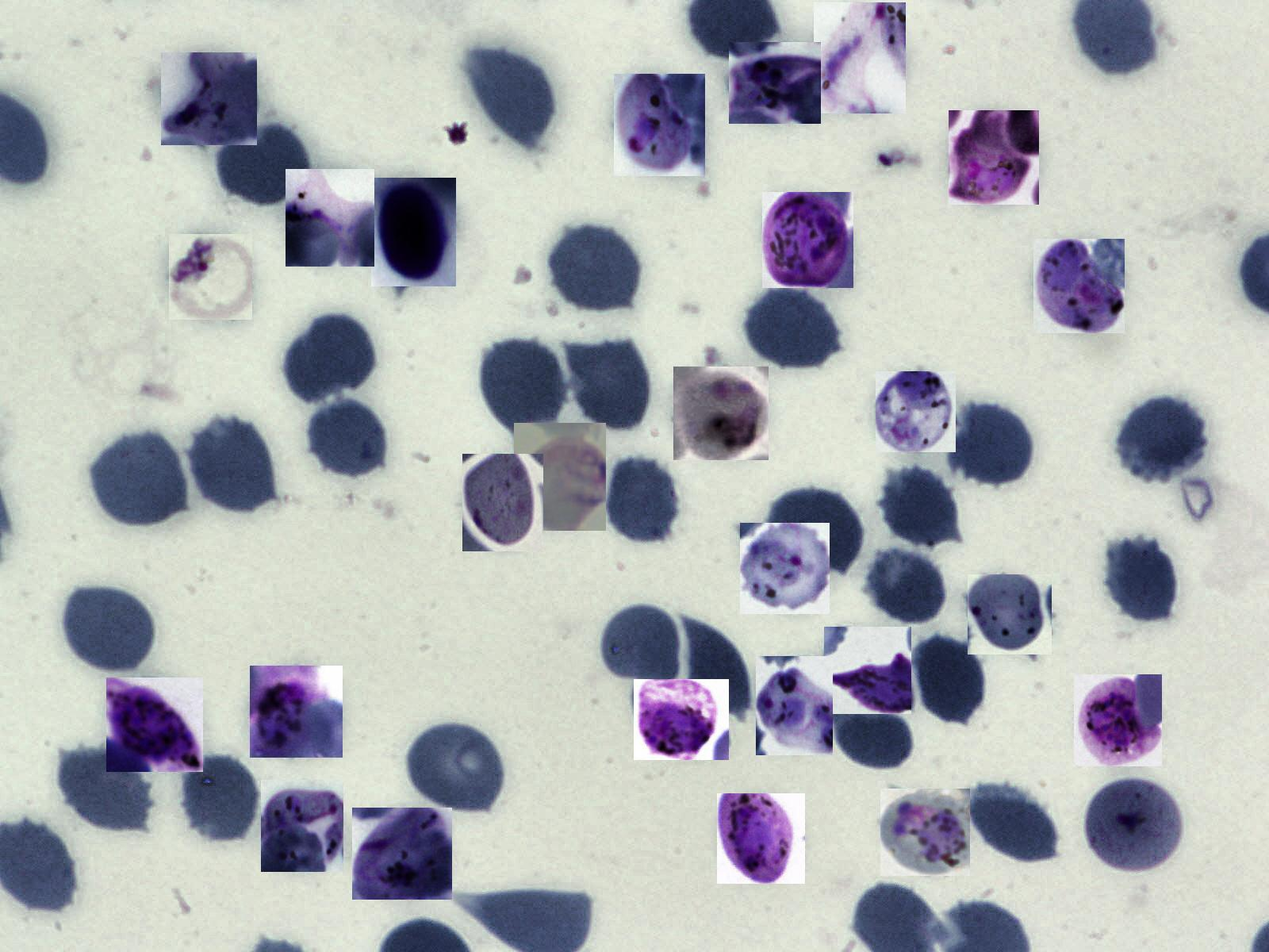Infected: (814, 2, 906, 113), (1083, 777, 1187, 875), (514, 423, 606, 531), (614, 74, 705, 176), (352, 808, 452, 900), (371, 178, 456, 286), (106, 678, 203, 772), (673, 367, 769, 460), (161, 52, 257, 145), (762, 192, 853, 288), (1033, 239, 1125, 333), (286, 169, 374, 267), (250, 666, 343, 758), (949, 110, 1039, 205), (741, 523, 830, 614), (1074, 675, 1162, 767), (717, 793, 805, 884), (462, 454, 543, 551), (880, 789, 970, 876), (634, 679, 729, 760), (756, 656, 833, 755), (824, 627, 911, 714), (261, 780, 343, 872), (729, 42, 821, 124), (169, 234, 252, 320), (968, 574, 1052, 654), (876, 371, 956, 452)
Uninfected: (89, 427, 187, 530), (464, 42, 557, 148), (403, 720, 508, 812), (59, 582, 159, 674), (546, 221, 642, 316), (56, 742, 155, 834), (188, 415, 278, 516), (477, 335, 566, 434), (567, 334, 654, 434), (771, 487, 864, 577), (281, 313, 374, 401), (215, 124, 312, 206), (746, 287, 841, 370), (680, 613, 753, 720), (966, 780, 1059, 863), (1118, 394, 1207, 479), (180, 755, 262, 845), (599, 603, 684, 687), (604, 454, 681, 545), (305, 397, 389, 479), (953, 403, 1034, 486), (1105, 535, 1179, 624), (916, 633, 987, 725), (880, 465, 959, 547), (833, 698, 913, 770), (867, 551, 945, 624)
